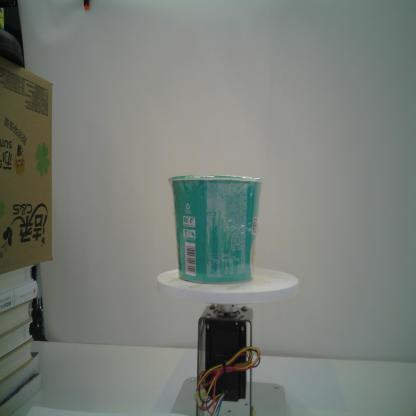Instant Noodles: (166, 172, 263, 284)
